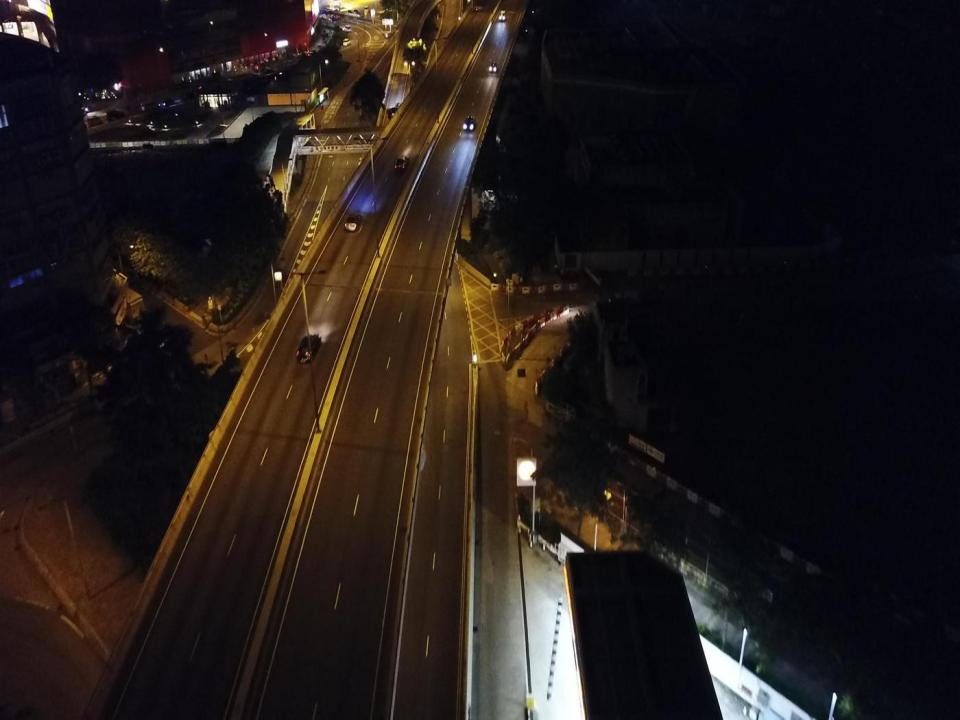bus: (316, 8, 340, 21)
car: (297, 334, 322, 362), (344, 213, 362, 232), (106, 110, 125, 122), (396, 155, 408, 171), (464, 116, 475, 132), (88, 115, 102, 126), (162, 98, 176, 105), (490, 61, 497, 73), (343, 38, 351, 46), (474, 4, 478, 12)
van: (141, 100, 158, 110), (499, 10, 506, 20), (344, 25, 351, 32)
